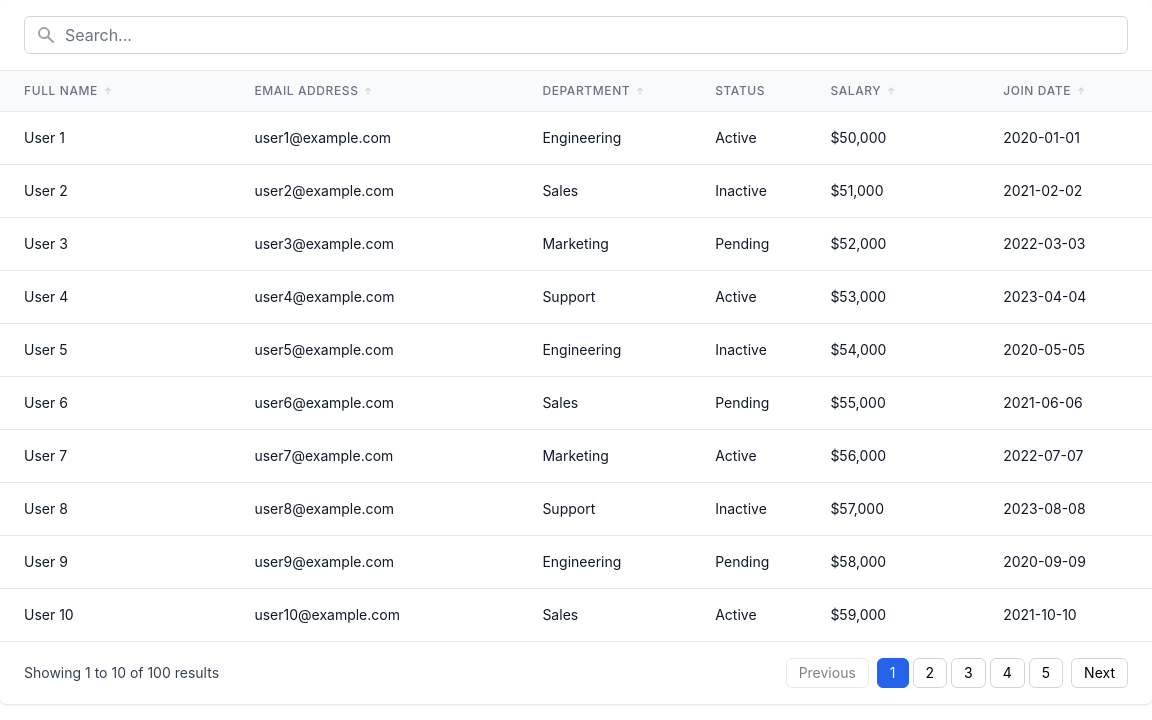
Test case: DataTable Integration Tests › Complex Data Handling › combines search with pagination correctly
Search for specific department
Type "Engineering" into the field with placeholder "Search..." at (576, 35), box [24,16,1128,54]
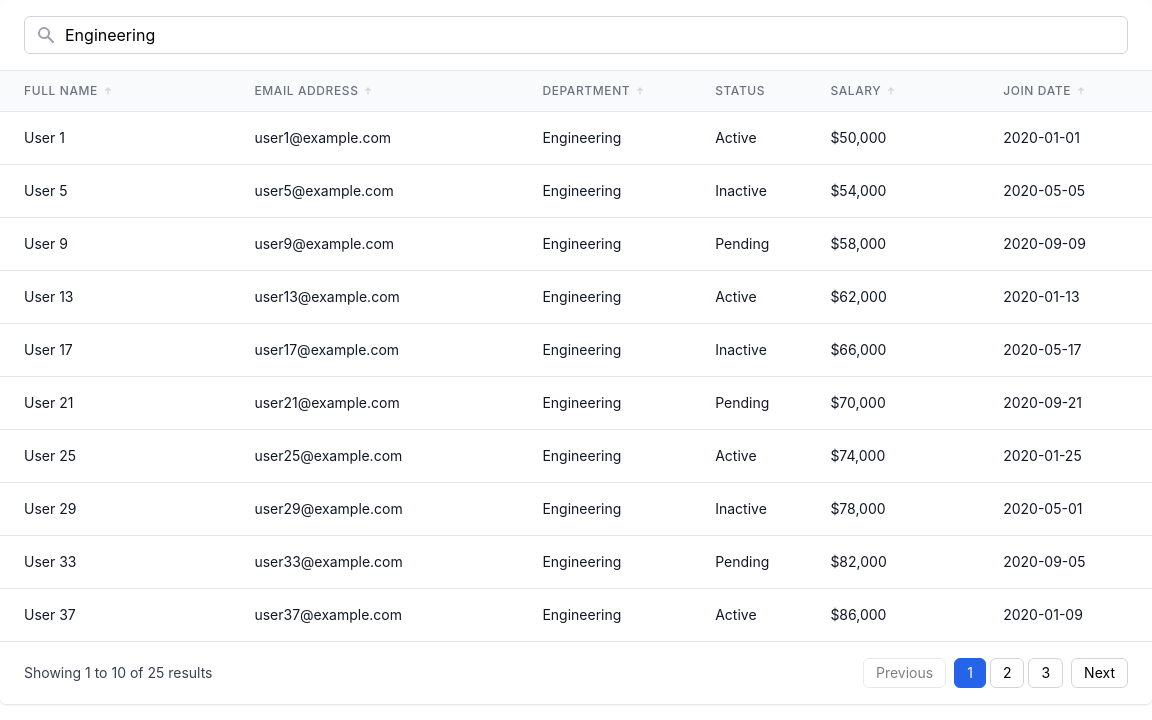
Check: the text "Showing 1 to 10 of 25 results" is shown, box [24,663,212,683]
Click the button with test id "next-page" at (1100, 673), box [1071,658,1128,688]
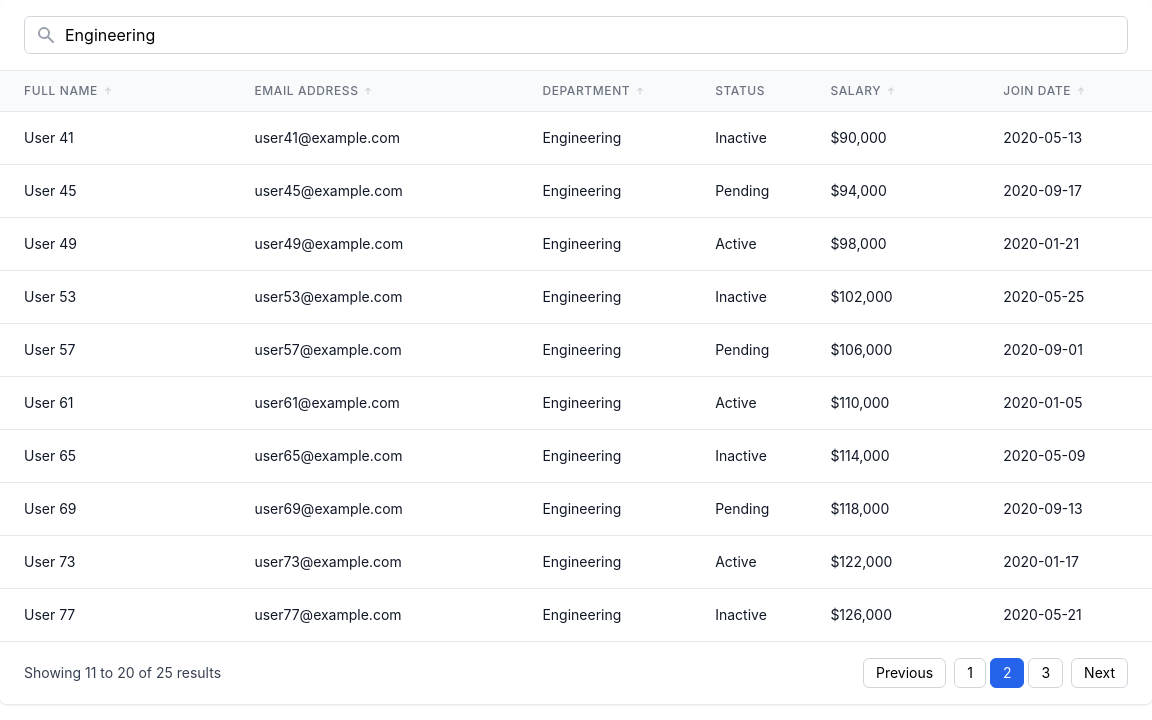
Check: the text "Showing 11 to 20 of 25 results" is shown, box [24,663,221,683]
